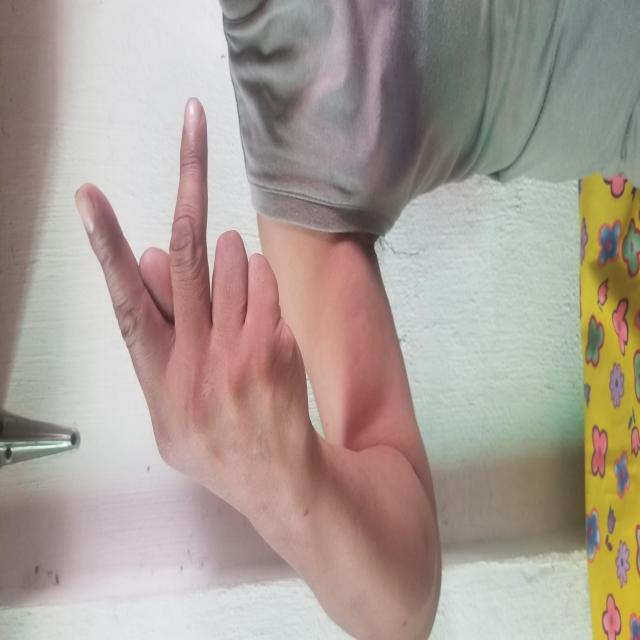K: (128, 75, 546, 306)
